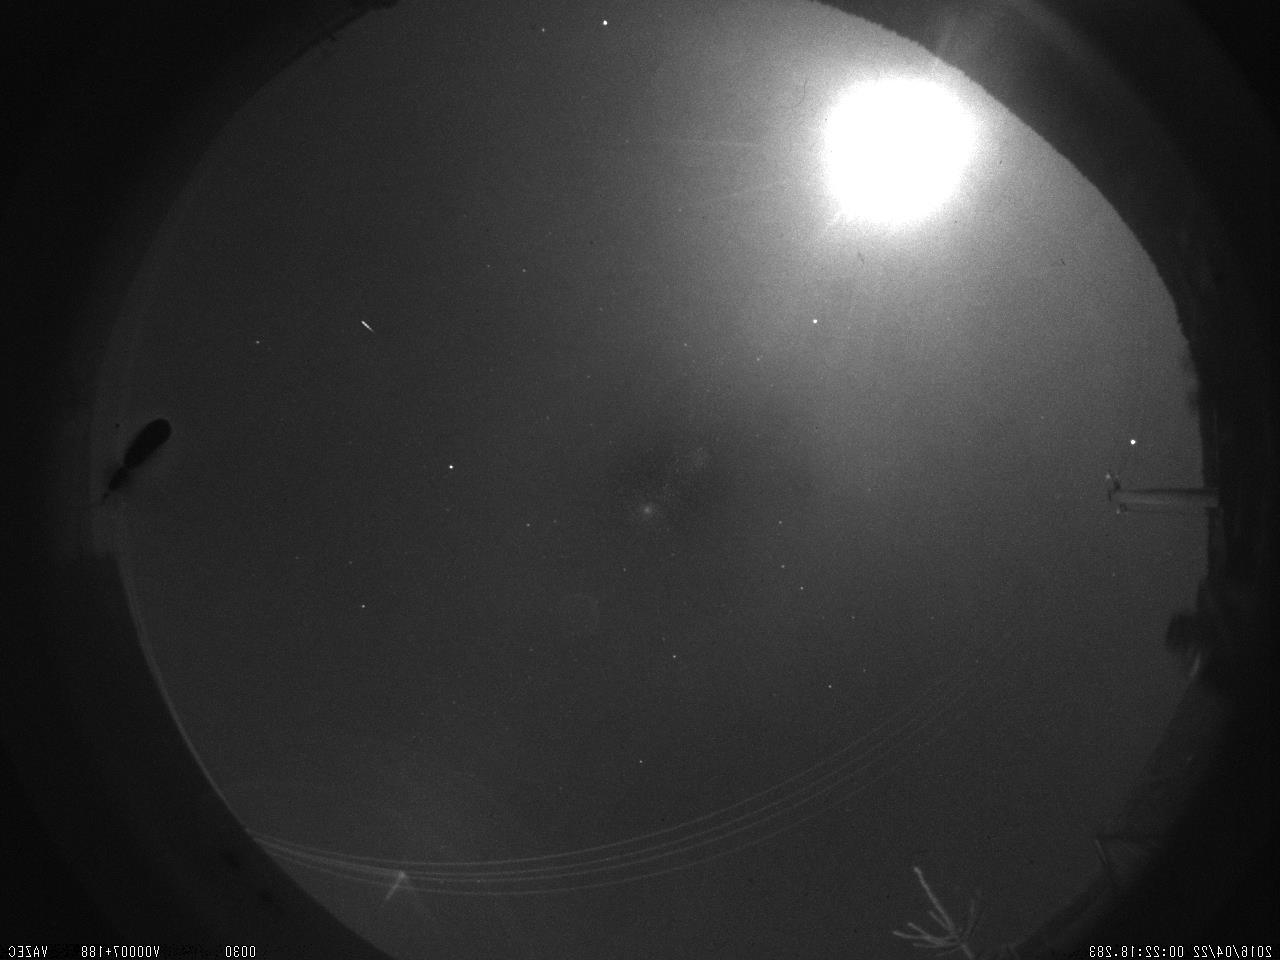meteor: (335, 302, 393, 361)
